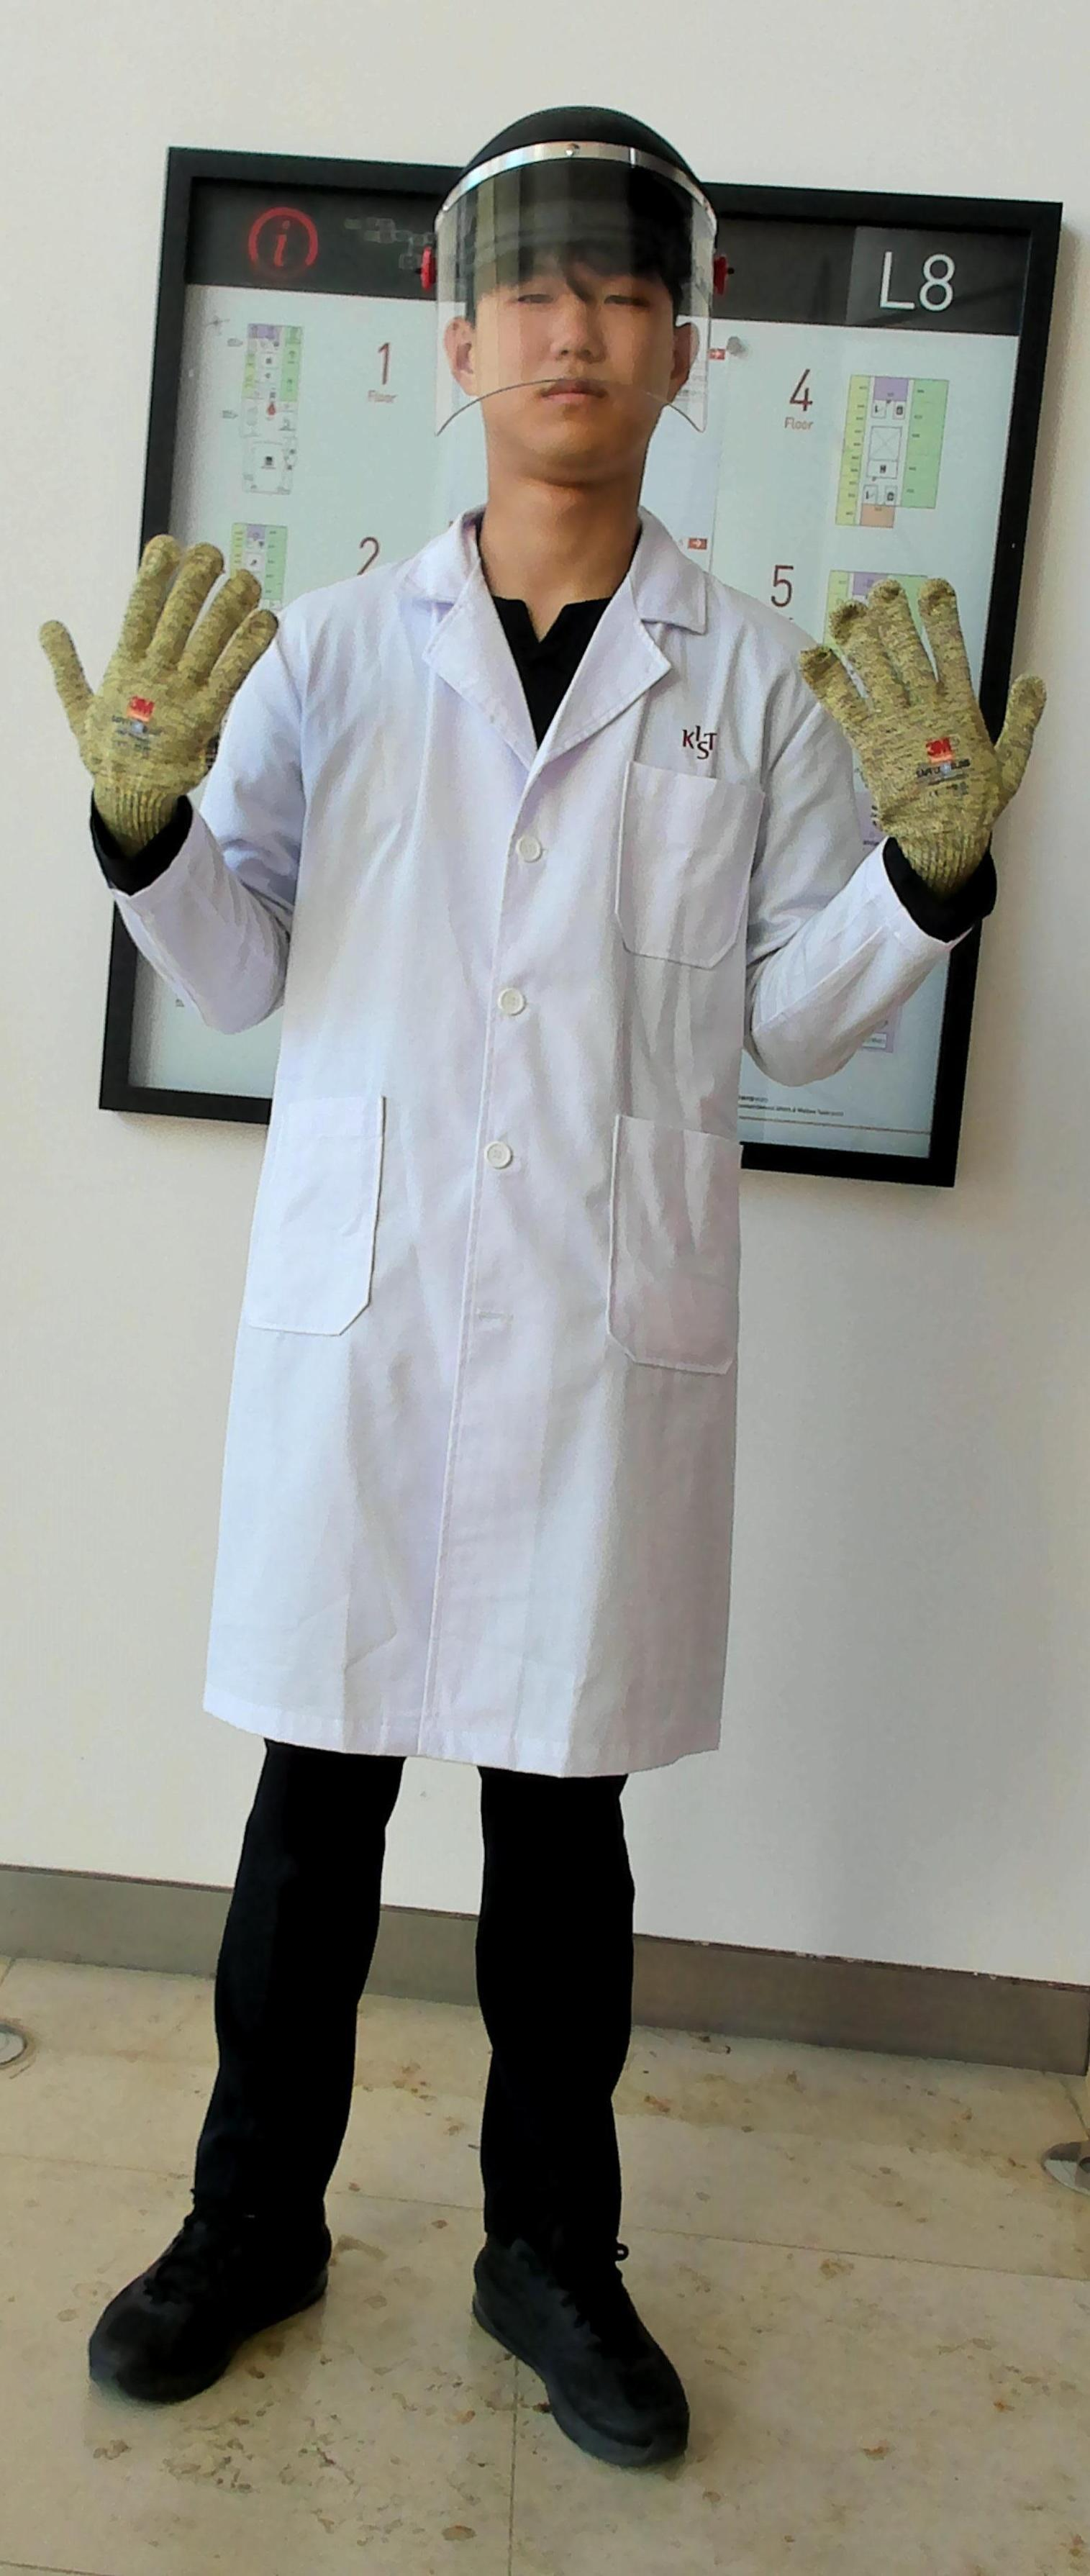lab_coat: (250, 613, 778, 1760)
